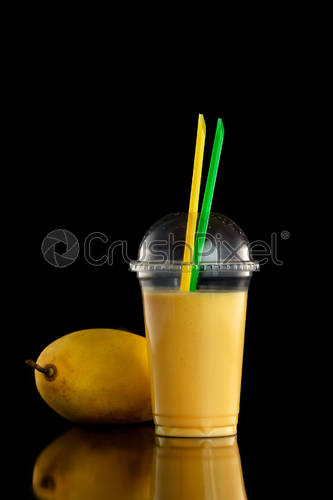plastic_glass: (95, 65, 293, 469)
